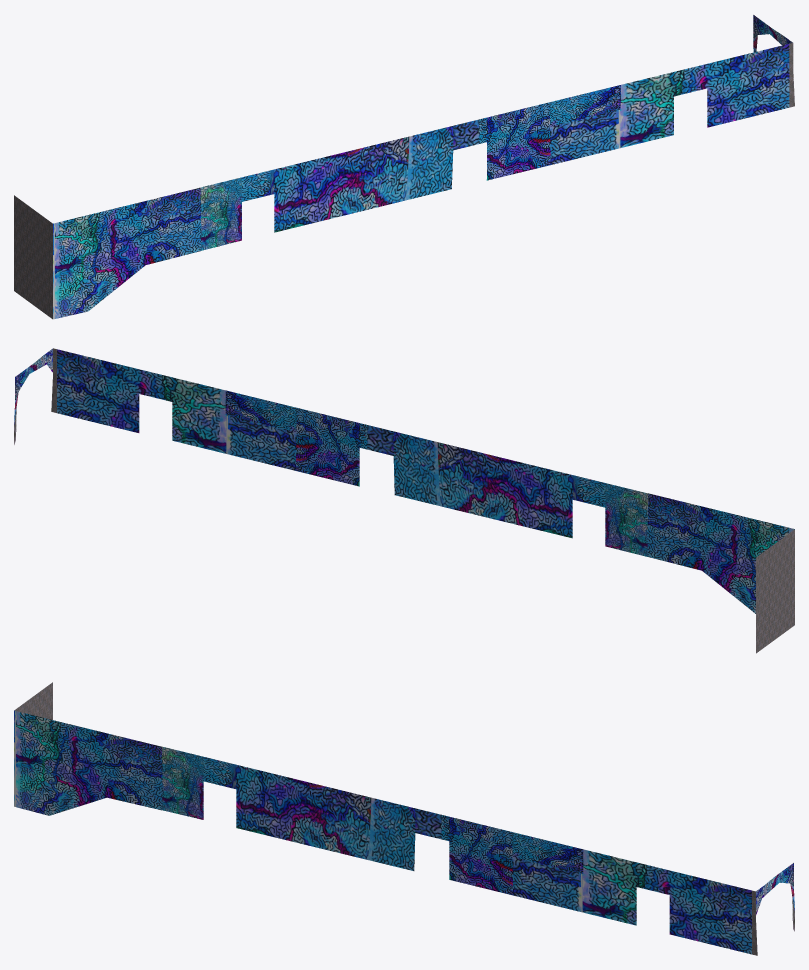
The model's file is 3rd floro 1.All files.obj.
3 renders of one model, top to bottom at view 1: azimuth 30°, elevation 25°; view 2: azimuth 150°, elevation 25°; view 3: azimuth 330°, elevation 25°, orthographic.
Parts seen in each view (by area): view 1: Ceiling_strange alt, hallway_wallpaper seamless 1; view 2: Ceiling_strange alt, hallway_wallpaper seamless 1; view 3: Ceiling_strange alt, hallway_wallpaper seamless 1.
Boxes of the visible parts, <box> form: Ceiling_strange alt: <box>53,15,792,319</box>; hallway_wallpaper seamless 1: <box>14,43,794,319</box>; Ceiling_strange alt: <box>14,348,794,613</box>; hallway_wallpaper seamless 1: <box>14,348,794,653</box>; Ceiling_strange alt: <box>14,710,794,954</box>; hallway_wallpaper seamless 1: <box>14,682,794,955</box>.
Size of the model in its own units: 58.32 by 7.25 by 5.34.
2 materials, 2 textured.
